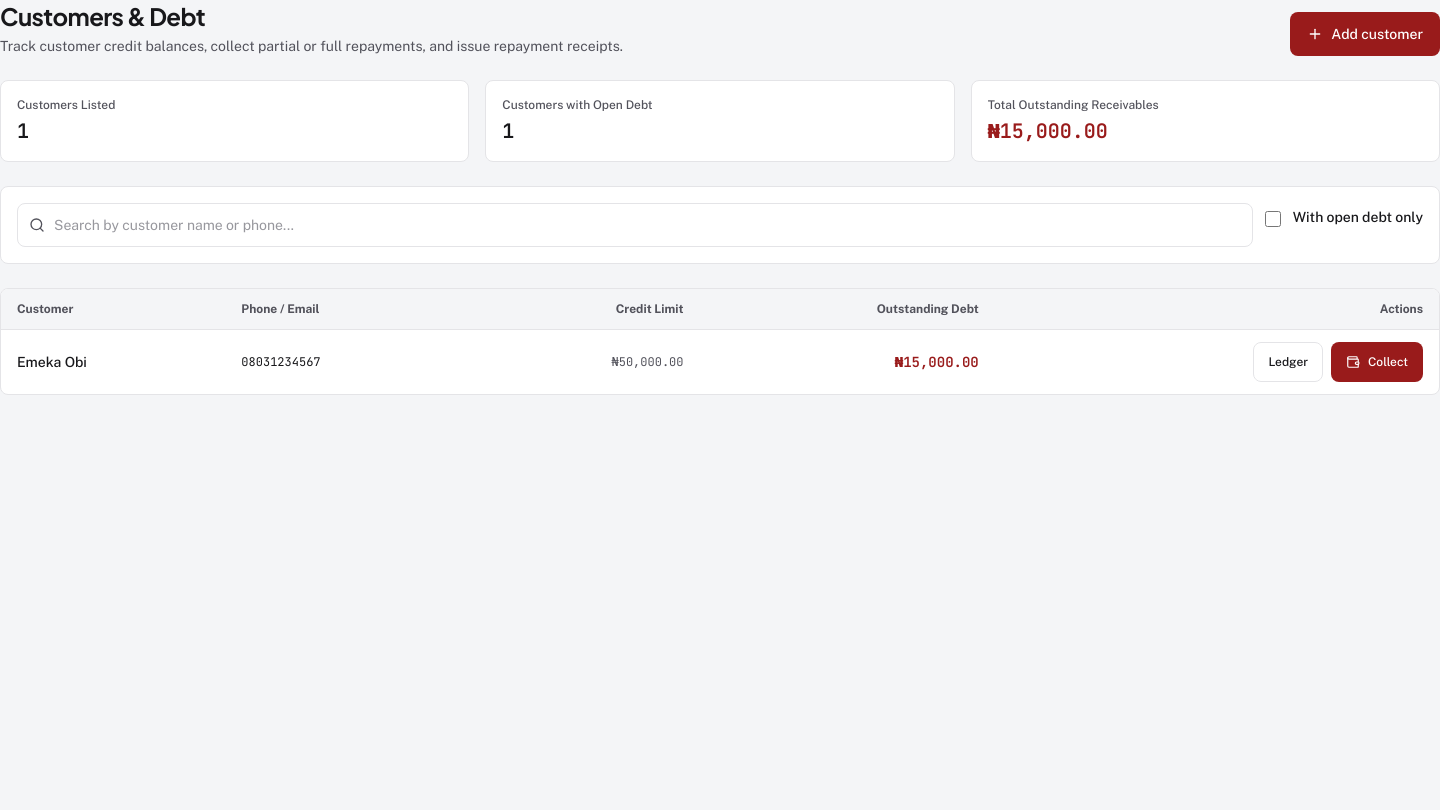
Test: Complete Frontend Operational Modules › CustomersPage collects a debt repayment and issues a Debt Repayment Receipt
The image size is (1440, 810).
Expected: the text "Emeka Obi" is shown, [17,354,87,370]
Click the button "Collect". click: click(1377, 362)
box: [1331,342,1423,382]
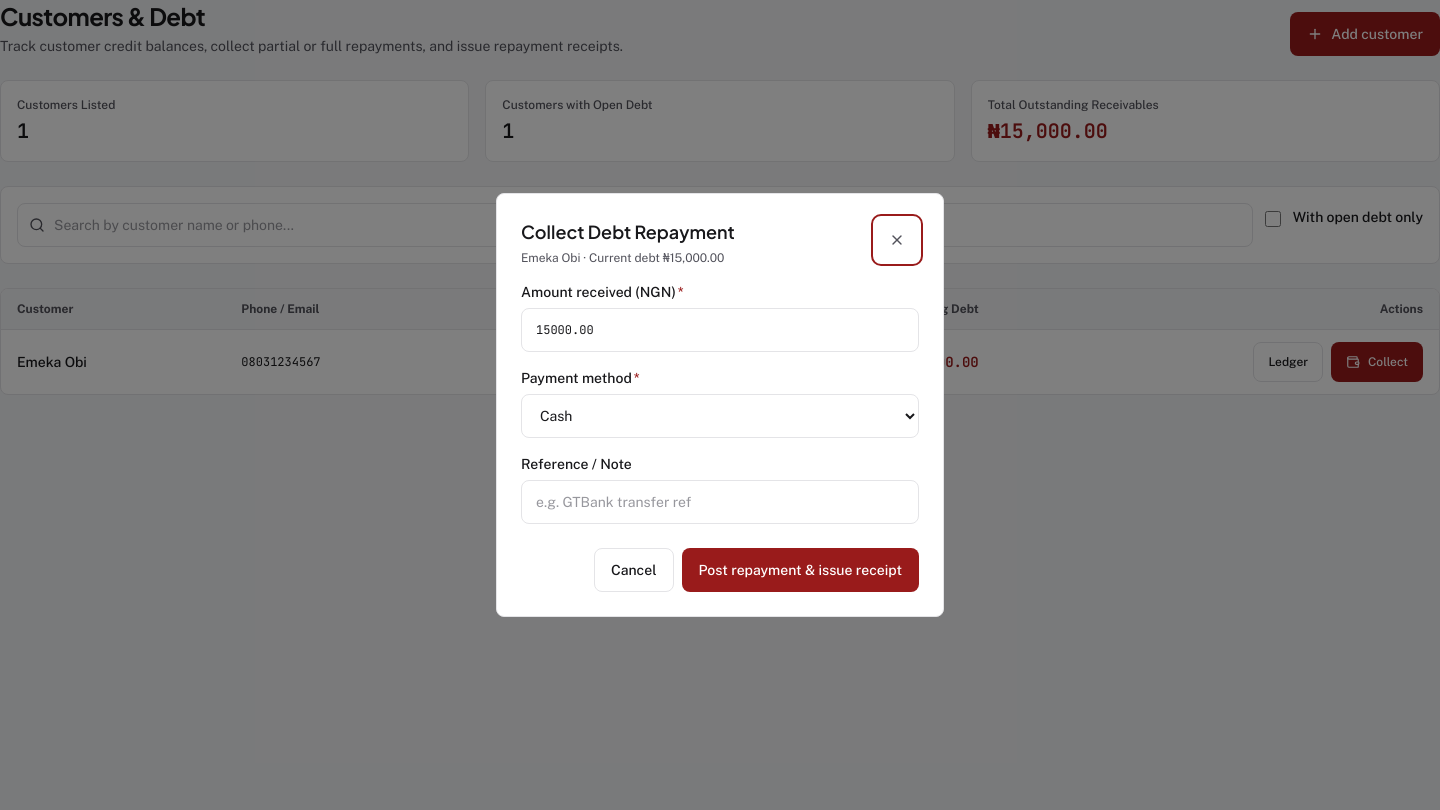
Replace the text in the number field labelled "Amount received (NGN)" with "10000". click: (720, 330)
box: [521,308,919,352]
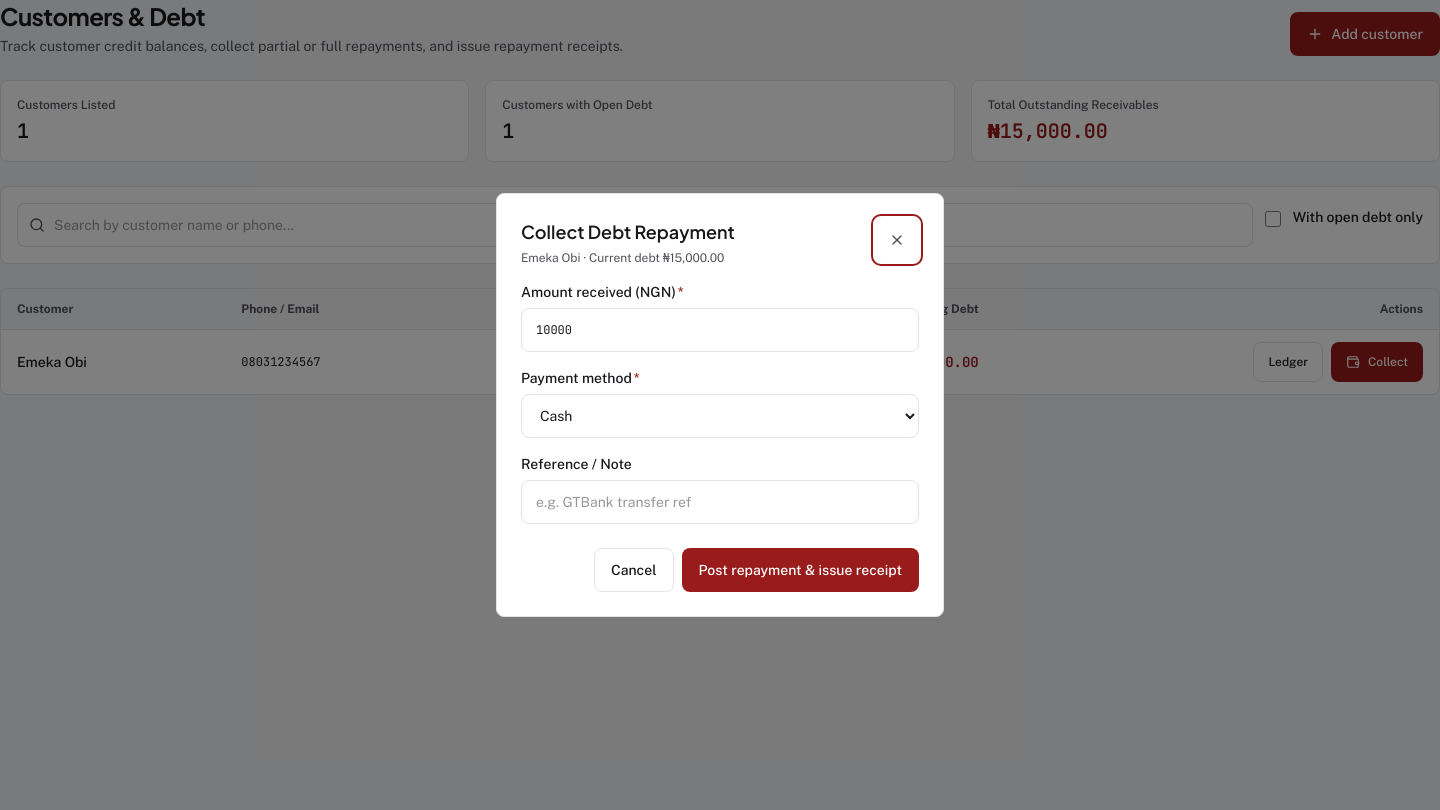
Click the button "Post repayment & issue receipt". click: click(800, 570)
box: [682,548,919,592]
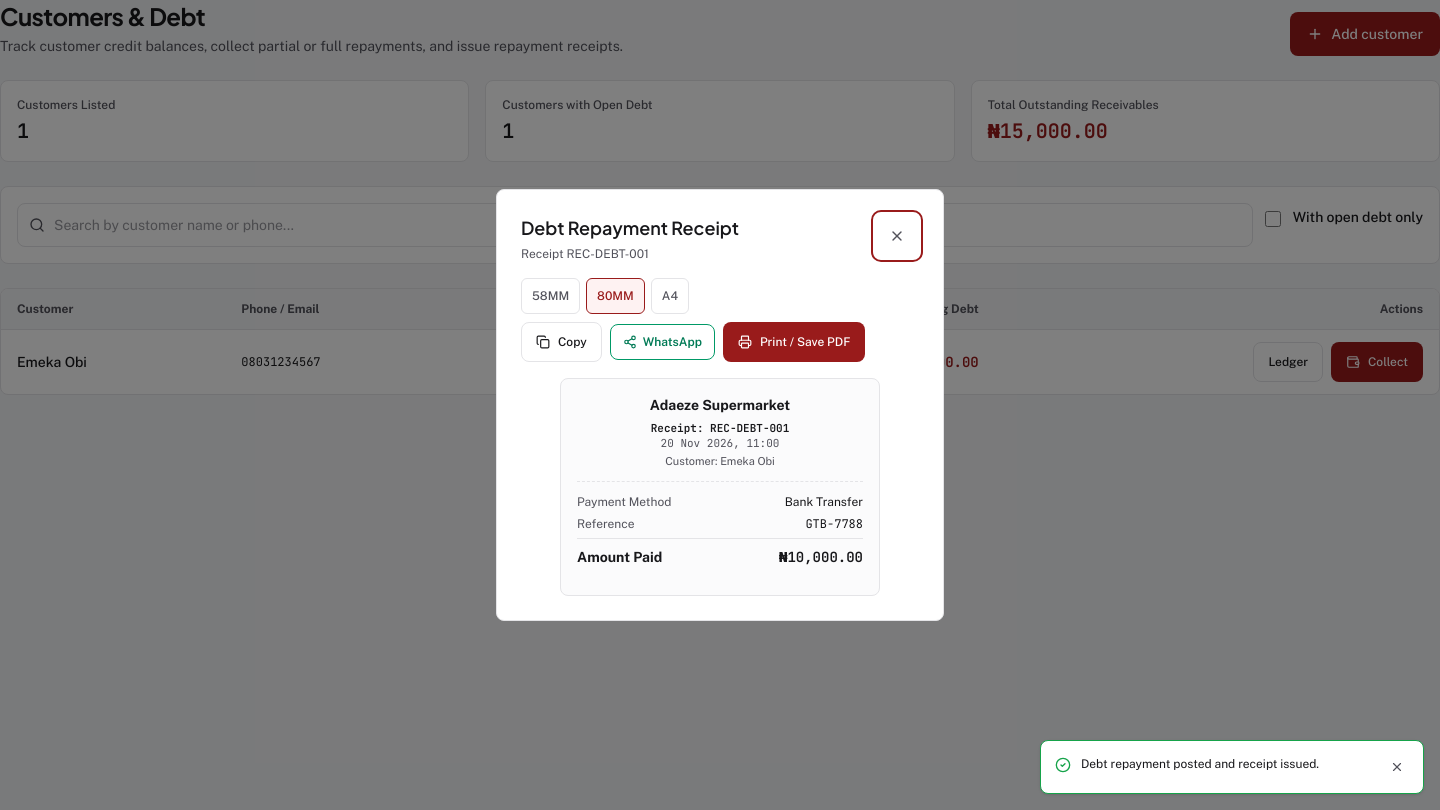
Expected: the text "Receipt: REC-DEBT-001" is shown, [651,421,789,435]
